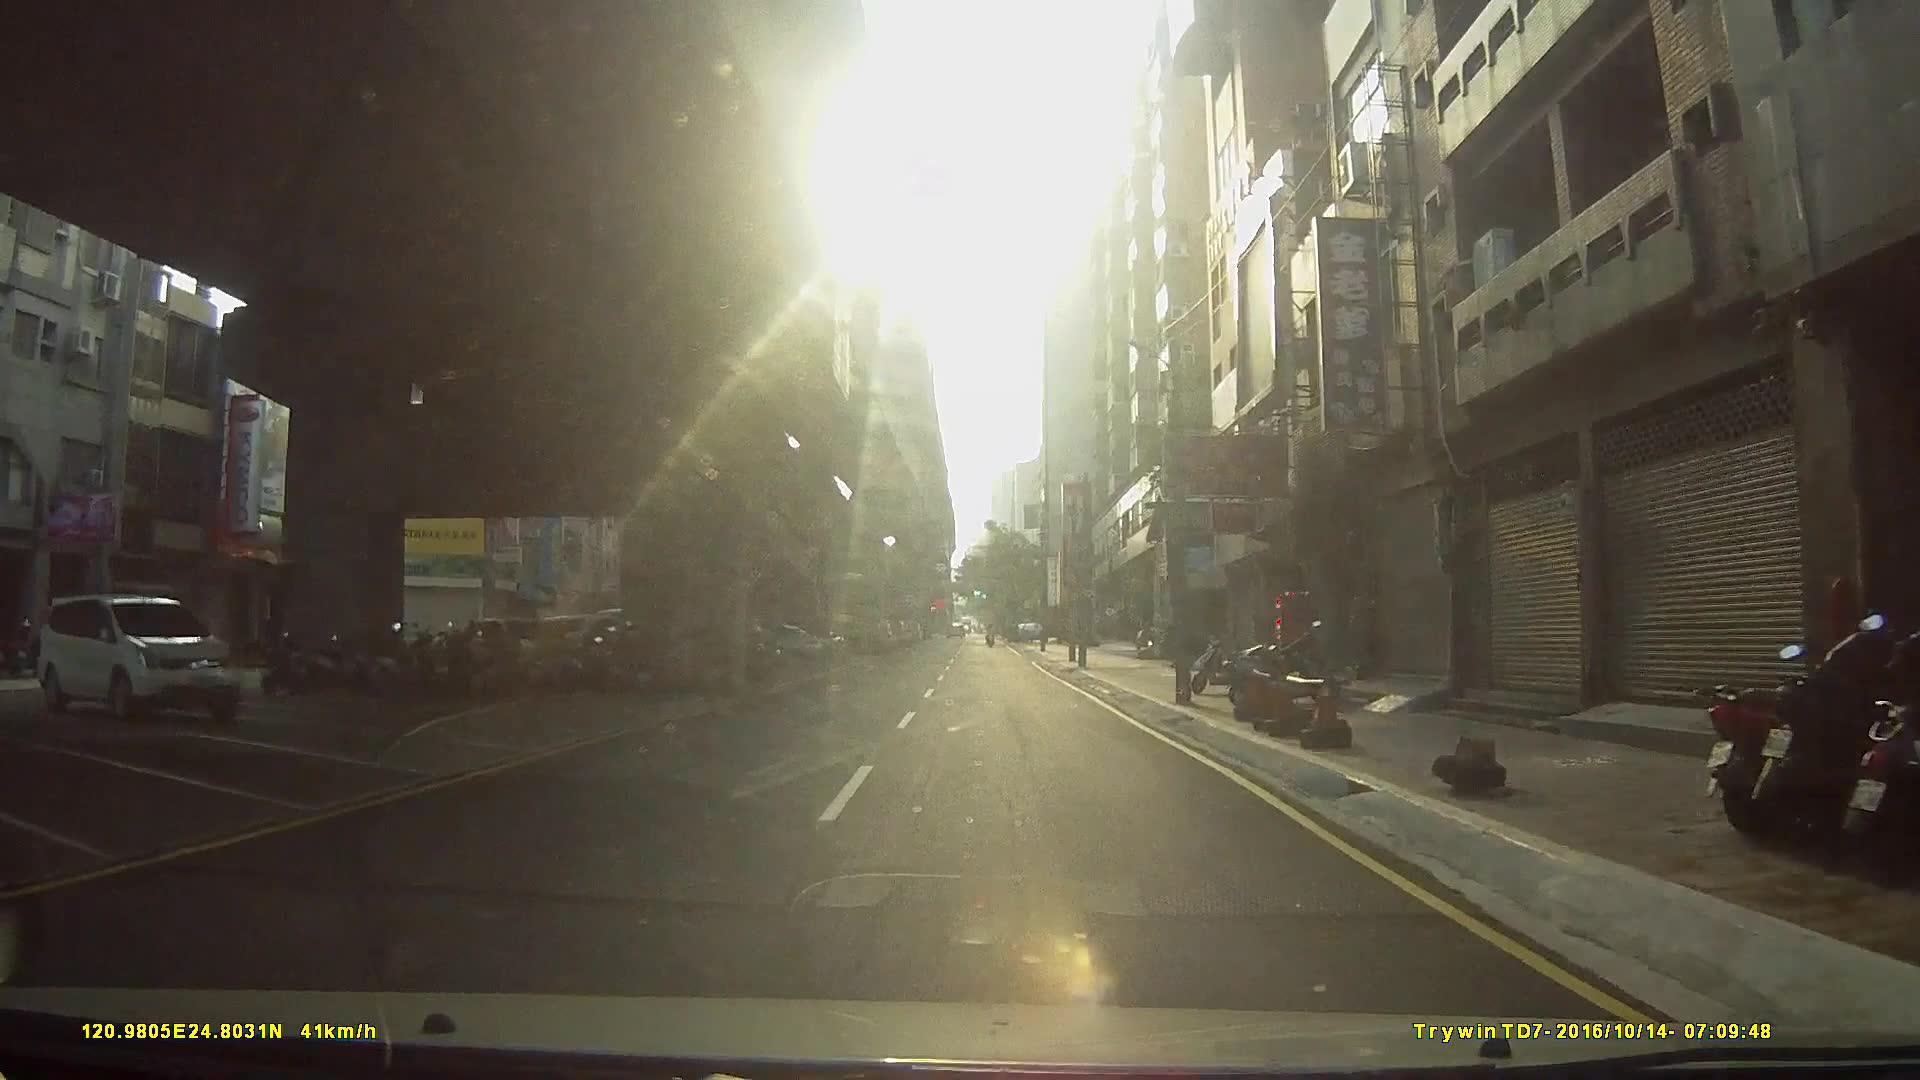vehicle: (33, 593, 243, 724)
